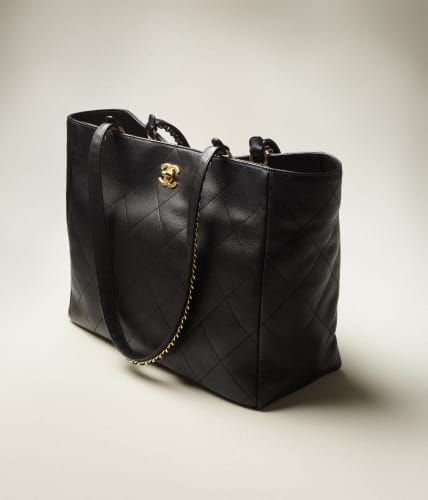channel: (61, 82, 365, 412), (145, 153, 193, 189)
